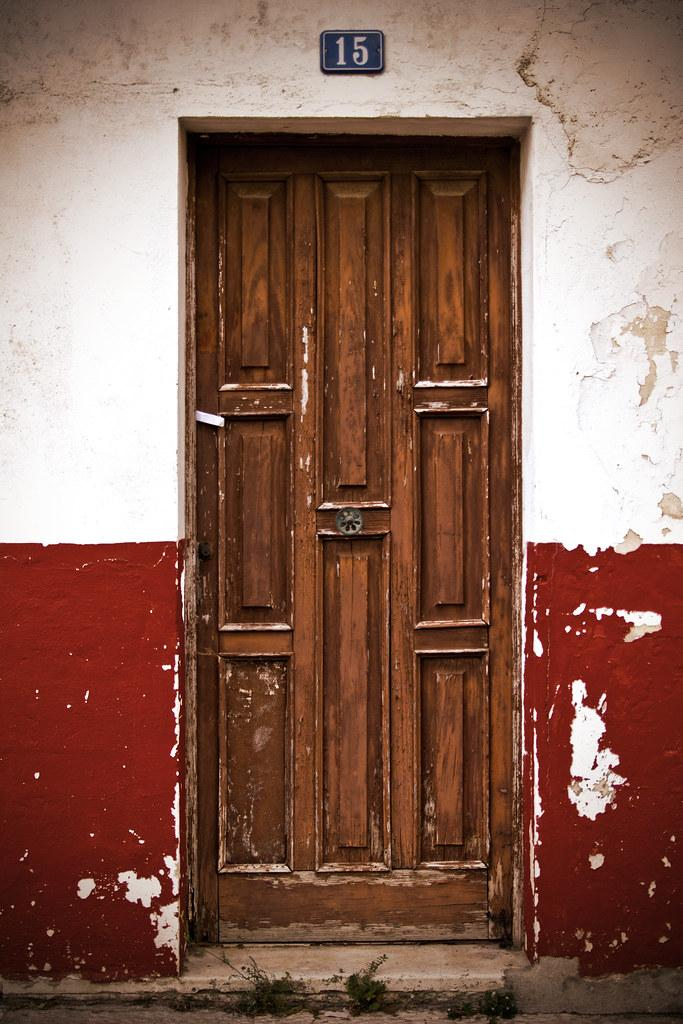door: (190, 130, 521, 945)
